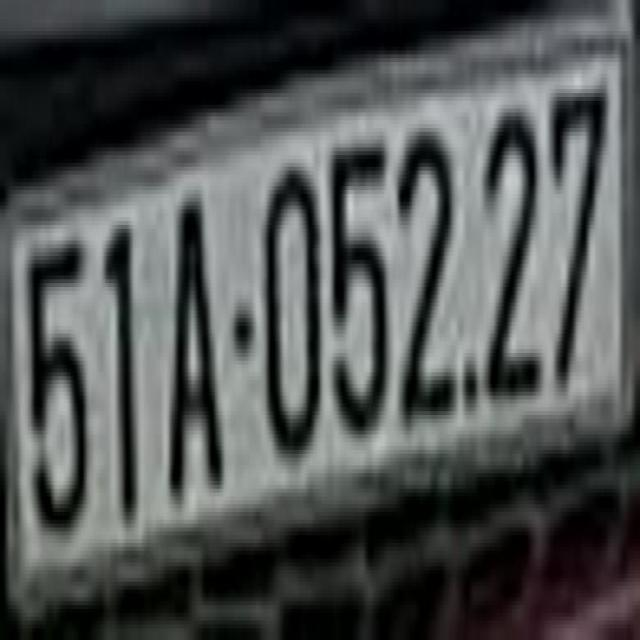0: (259, 147, 322, 466)
1: (105, 213, 142, 524)
2: (396, 116, 461, 419), (480, 101, 544, 407)
5: (30, 236, 90, 540), (328, 136, 387, 434)
7: (548, 73, 612, 396)
A: (167, 182, 228, 508)
